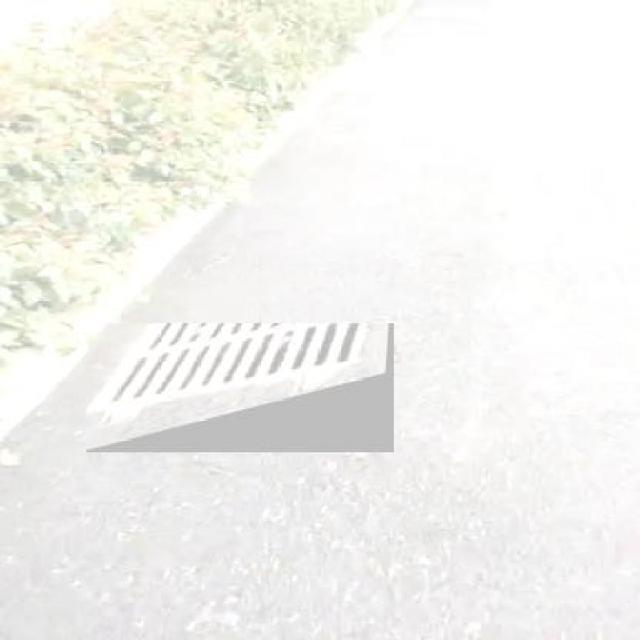Manhole: (88, 324, 396, 453)
